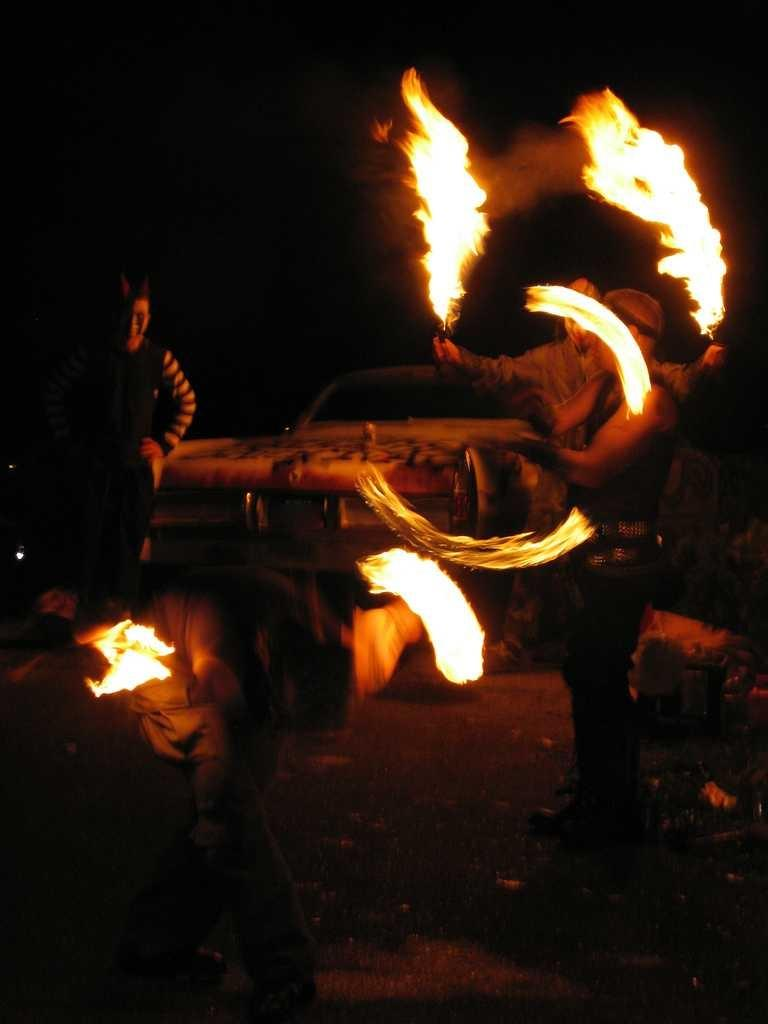fire: (387, 81, 729, 365), (347, 541, 507, 722), (77, 607, 198, 698)
